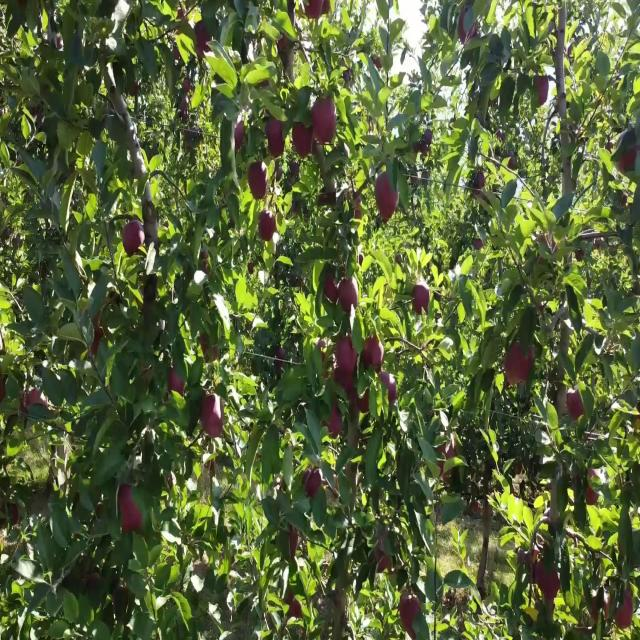apple: (332, 334, 359, 391), (504, 341, 535, 386), (120, 483, 144, 533), (312, 99, 337, 146), (200, 398, 224, 441), (536, 561, 560, 604), (400, 597, 421, 638), (292, 120, 313, 160), (436, 440, 456, 480), (376, 177, 400, 210), (376, 191, 400, 224), (364, 334, 384, 373), (616, 590, 634, 633), (248, 163, 268, 201), (340, 277, 360, 315), (124, 220, 143, 256), (304, 469, 325, 501), (376, 376, 397, 407), (268, 120, 285, 158), (324, 405, 343, 439), (412, 284, 432, 316), (196, 21, 212, 60), (352, 383, 372, 414), (200, 334, 220, 363), (460, 14, 479, 44), (416, 127, 433, 158), (592, 597, 610, 626), (260, 213, 277, 242), (168, 369, 185, 398), (92, 319, 105, 356), (568, 391, 584, 420), (588, 469, 600, 507), (620, 149, 638, 174), (324, 277, 339, 306), (288, 590, 303, 619), (376, 547, 392, 574), (536, 78, 550, 107), (236, 120, 247, 155), (356, 391, 371, 414), (304, 0, 320, 21), (288, 533, 300, 560), (276, 35, 292, 55), (200, 248, 211, 276), (380, 206, 396, 224), (356, 191, 364, 222), (28, 391, 42, 405), (320, 0, 332, 16), (12, 504, 20, 528), (476, 170, 485, 190), (476, 241, 484, 249)
